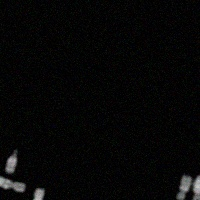chromosome: (0, 174, 25, 191), (176, 175, 191, 200), (5, 150, 17, 173), (25, 188, 45, 200), (193, 176, 200, 200)
